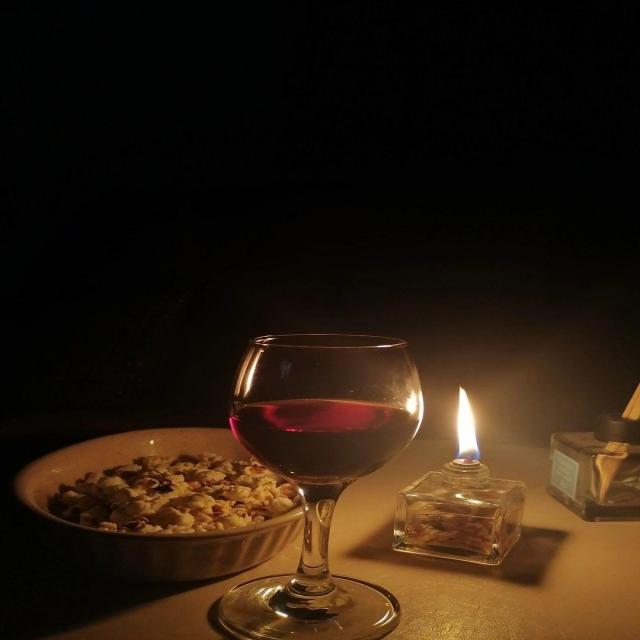glass-wine: (216, 330, 428, 640)
